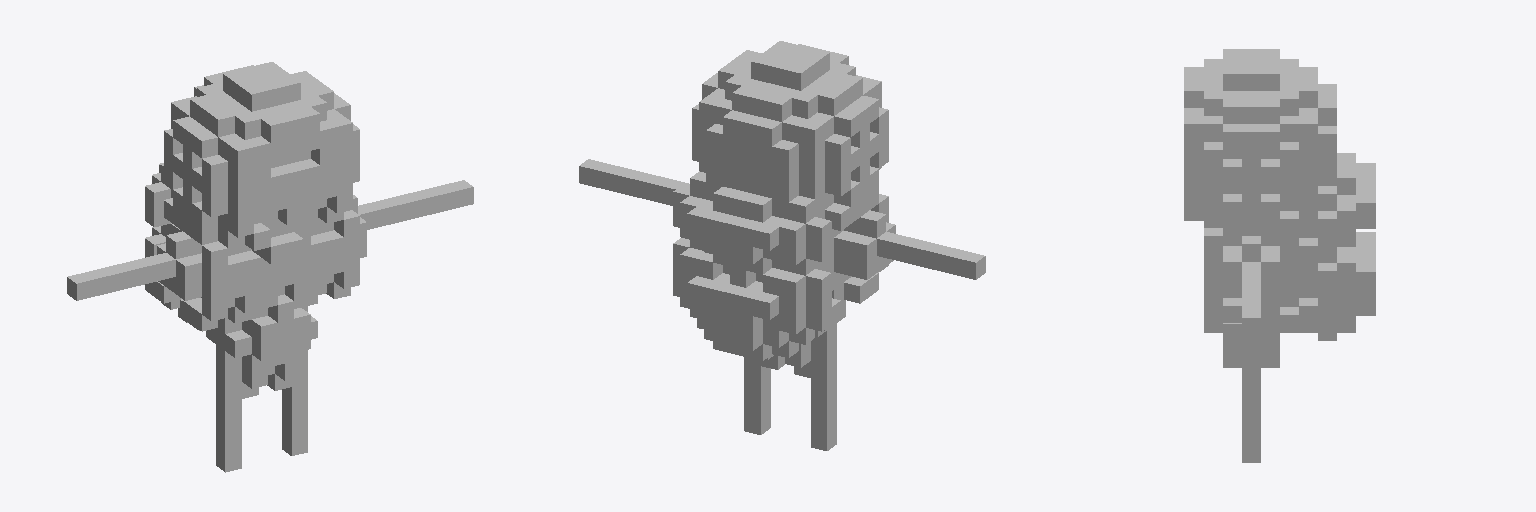
The model's file is player.obj.
3 views of the same model, side by side, from view 1: azimuth 30°, elevation 25°; view 2: azimuth 150°, elevation 25°; view 3: azimuth 270°, elevation 25° (orthographic).
Bounding box in the file's own units: 24 × 22 × 10.